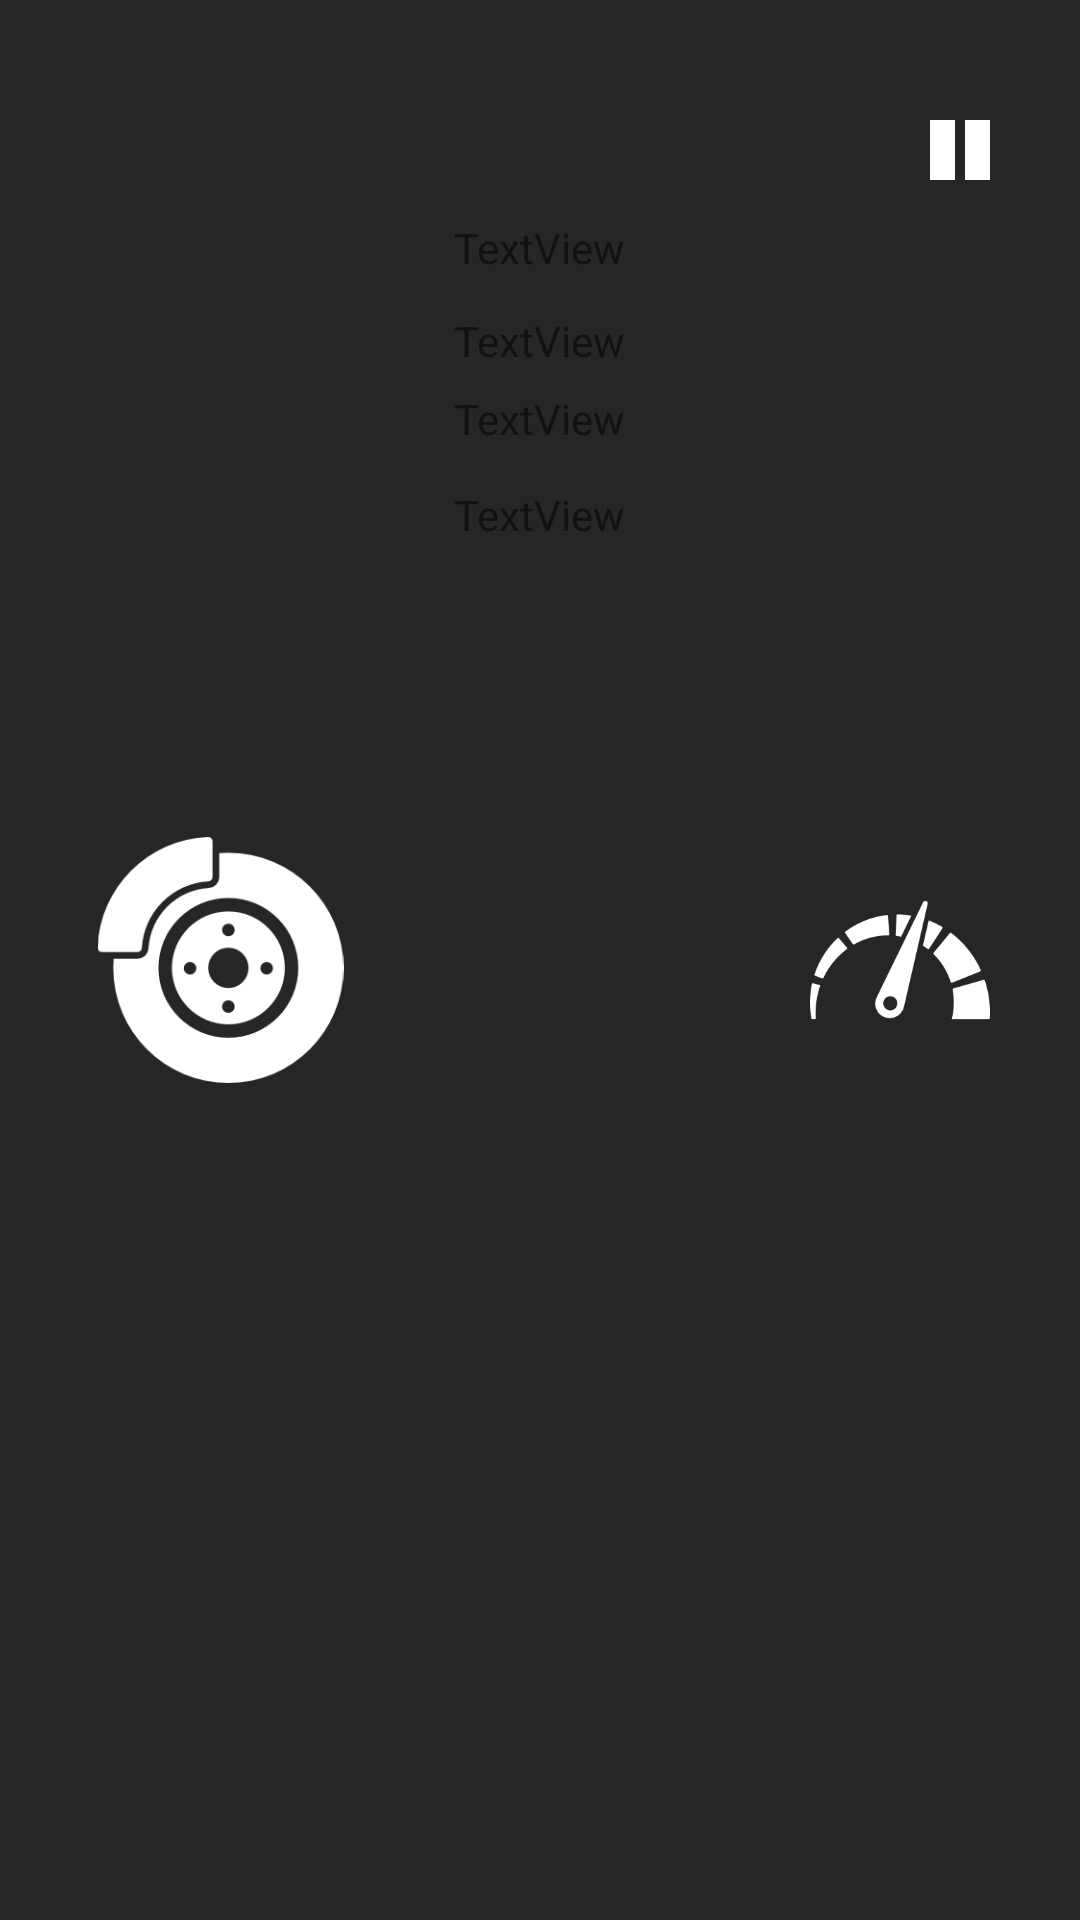

Icon bounding boxes for this 1080w x 1920h phone screenshot, format [x1, y1, x2, y2]:
disc brake: [98, 837, 344, 1083]
pause: [930, 120, 990, 180]
speedometer: [810, 901, 990, 1020]
